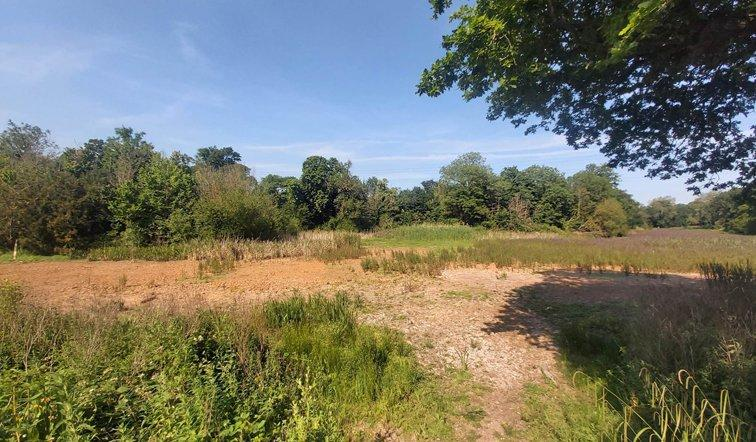overgrown grass: (0, 282, 442, 441), (524, 263, 755, 441), (411, 230, 755, 271), (145, 230, 362, 271), (95, 248, 142, 259)
